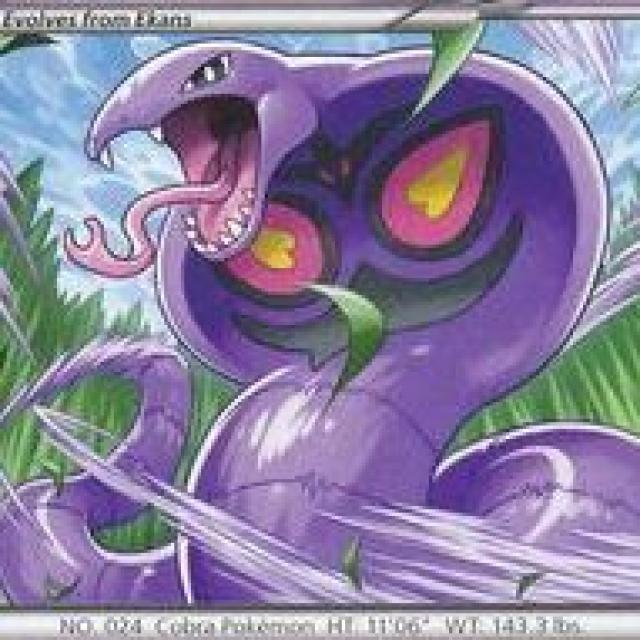Arbok: (80, 43, 610, 552)
